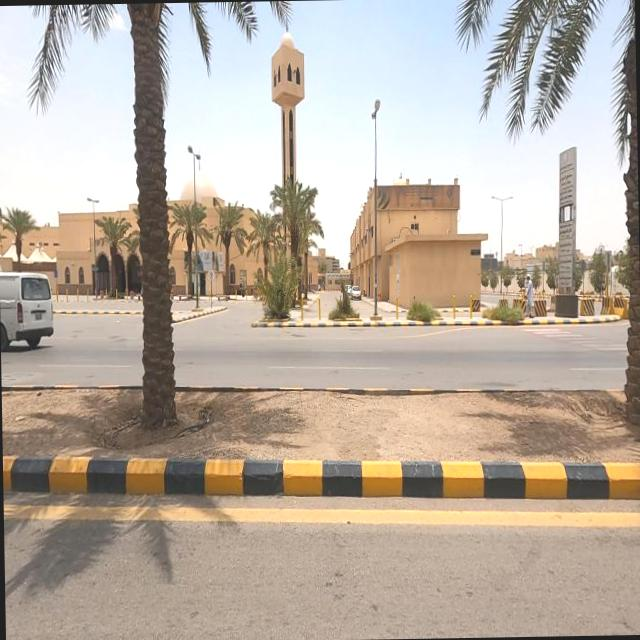debris: (153, 368, 237, 487)
